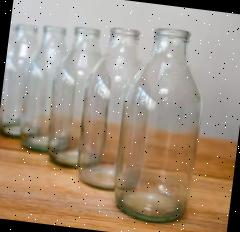glass: (0, 8, 212, 226)
